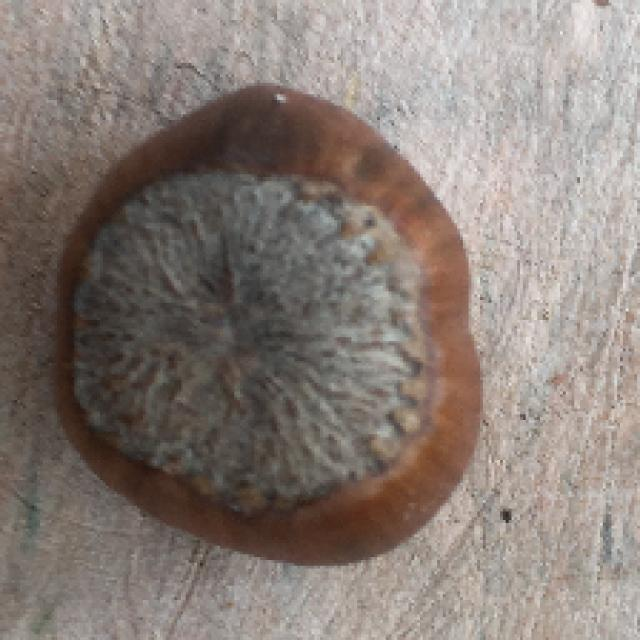DamagedHazelnut: (57, 83, 485, 569)
